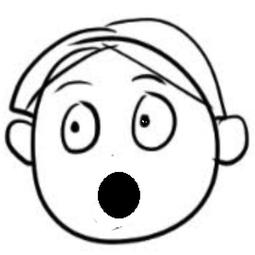ear: (208, 112, 253, 168), (0, 116, 41, 168)
eye: (128, 91, 179, 158), (53, 100, 102, 160)
eyebrow: (52, 76, 98, 98), (130, 68, 170, 88)
open_mouth: (90, 168, 147, 220)
